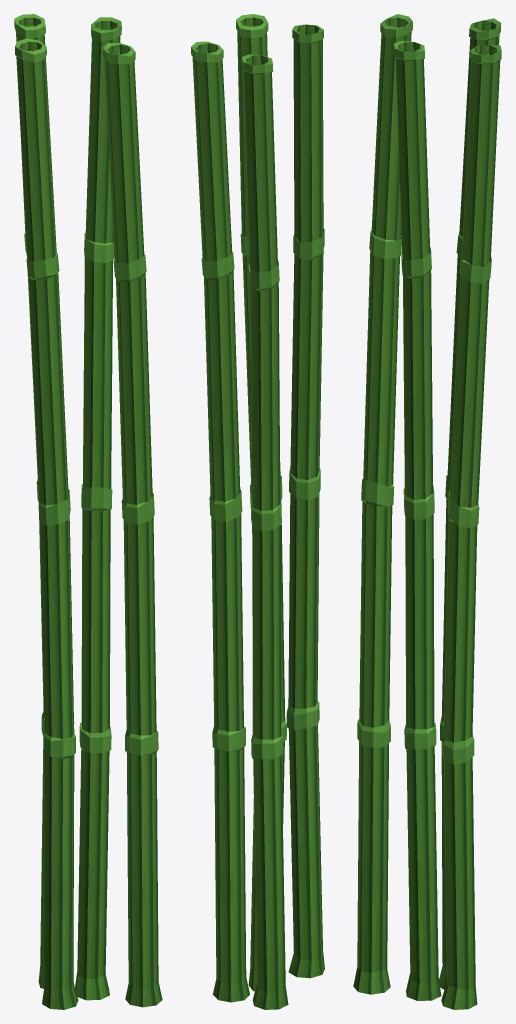
File: bamboos.fbx
The picture shows the model from 3 angles, left to right: view 1: azimuth 90°, elevation 25°; view 2: azimuth 150°, elevation 25°; view 3: azimuth 270°, elevation 25°; orthographic projection.
Parts seen in each view (by area): view 1: Bamboo.012, Bamboo.011, Bamboo.010, Bamboo.013; view 2: Bamboo.013, Bamboo.012, Bamboo.011, Bamboo.010; view 3: Bamboo.013, Bamboo.012, Bamboo.010, Bamboo.011.
Boxes of the visible parts, left/top/right/bottom form: Bamboo.012: left=103, top=43, right=162, bottom=1007; Bamboo.011: left=15, top=38, right=78, bottom=1009; Bamboo.010: left=75, top=17, right=121, bottom=1000; Bamboo.013: left=14, top=14, right=74, bottom=988; Bamboo.013: left=191, top=41, right=249, bottom=1002; Bamboo.012: left=286, top=24, right=324, bottom=978; Bamboo.011: left=242, top=54, right=288, bottom=1009; Bamboo.010: left=236, top=14, right=286, bottom=991; Bamboo.013: left=441, top=45, right=501, bottom=1009; Bamboo.012: left=353, top=14, right=412, bottom=994; Bamboo.010: left=394, top=40, right=441, bottom=1000; Bamboo.011: left=439, top=18, right=501, bottom=989.
Bounding box in the file's own units: 13.78 × 150 × 20.98.
Materials: 1 (1 with a texture image).
